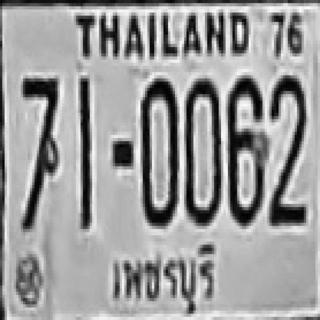N00: (138, 75, 177, 223), (183, 75, 220, 223)
N01: (78, 77, 90, 202)
N02: (268, 74, 305, 205)
N06: (226, 72, 267, 223)
N07: (20, 75, 59, 229), (21, 75, 58, 188), (21, 75, 58, 176), (21, 75, 58, 163)
P44: (103, 240, 219, 319)
